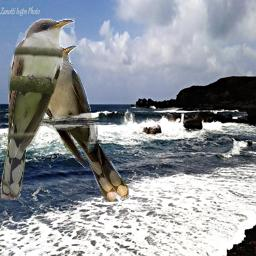Cuckoo: (35, 45, 129, 202), (1, 18, 75, 200)
